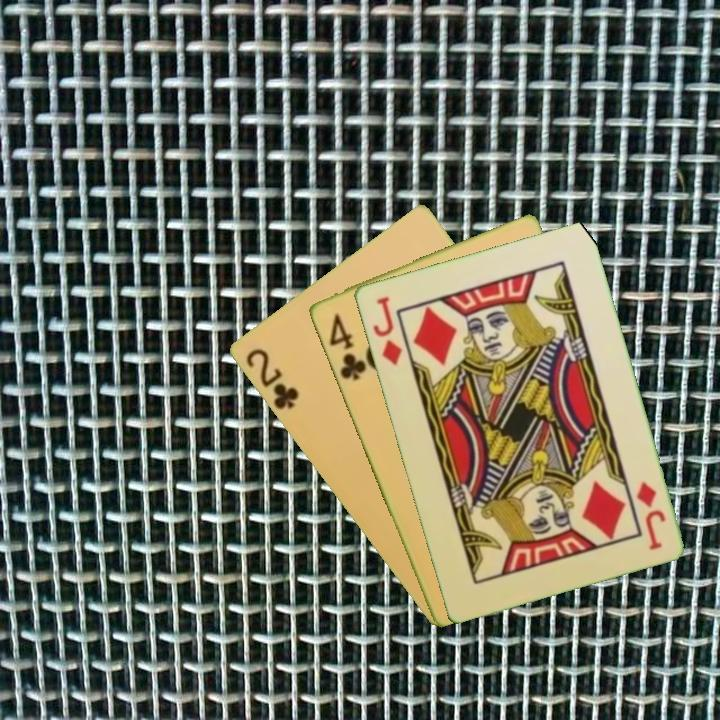2c: (241, 344, 301, 413)
4c: (325, 309, 369, 383)
Jd: (368, 292, 405, 368), (632, 478, 668, 553)
